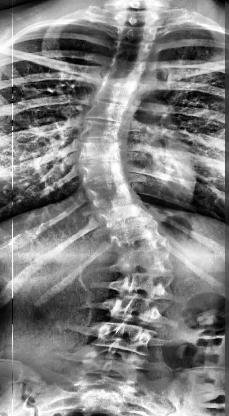Vertebrae: (90, 320, 156, 356), (72, 368, 138, 401), (79, 346, 141, 378), (109, 272, 170, 304), (104, 292, 165, 324), (116, 246, 172, 278), (110, 224, 168, 254), (87, 180, 143, 210), (98, 201, 154, 231), (76, 160, 130, 188), (94, 76, 146, 102), (80, 100, 130, 124), (74, 140, 124, 164), (75, 118, 123, 142), (106, 54, 150, 80), (116, 8, 160, 30), (112, 39, 154, 61), (114, 26, 158, 42)
